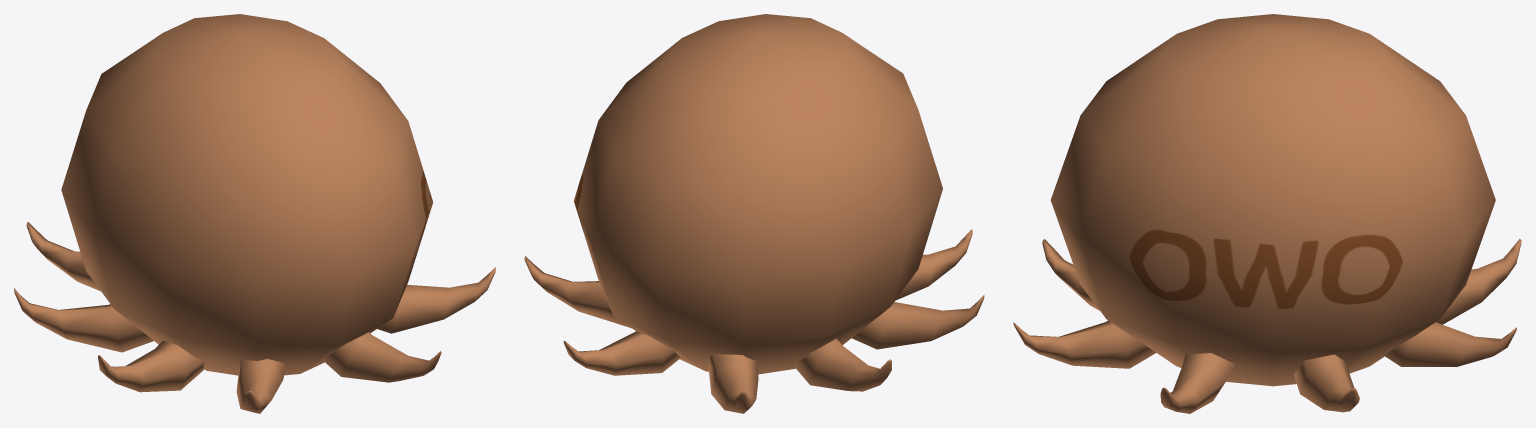
Rendered from Octopus Blob OWO BROWN.fbx.
3 views of the same model, side by side, from view 1: azimuth 30°, elevation 25°; view 2: azimuth 150°, elevation 25°; view 3: azimuth 270°, elevation 25° (orthographic). The views are drawn at different scales.
Visible parts, largest first — view 1: Cylinder006; view 2: Cylinder006; view 3: Cylinder006.
Part boxes in pixels (box(x1,y1,x2,y2)): Cylinder006: box(14, 14, 495, 413); Cylinder006: box(524, 14, 984, 413); Cylinder006: box(1013, 14, 1521, 413).
Size of the model in its own units: 17.84 by 13.75 by 19.36.
1 material, 1 textured.
